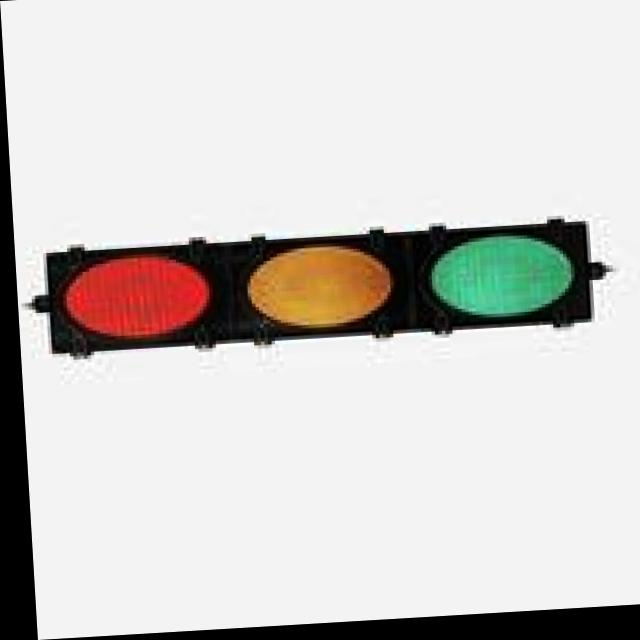green_light: (413, 212, 584, 374)
red_light: (40, 220, 227, 375)
yellow_light: (245, 213, 410, 368)
